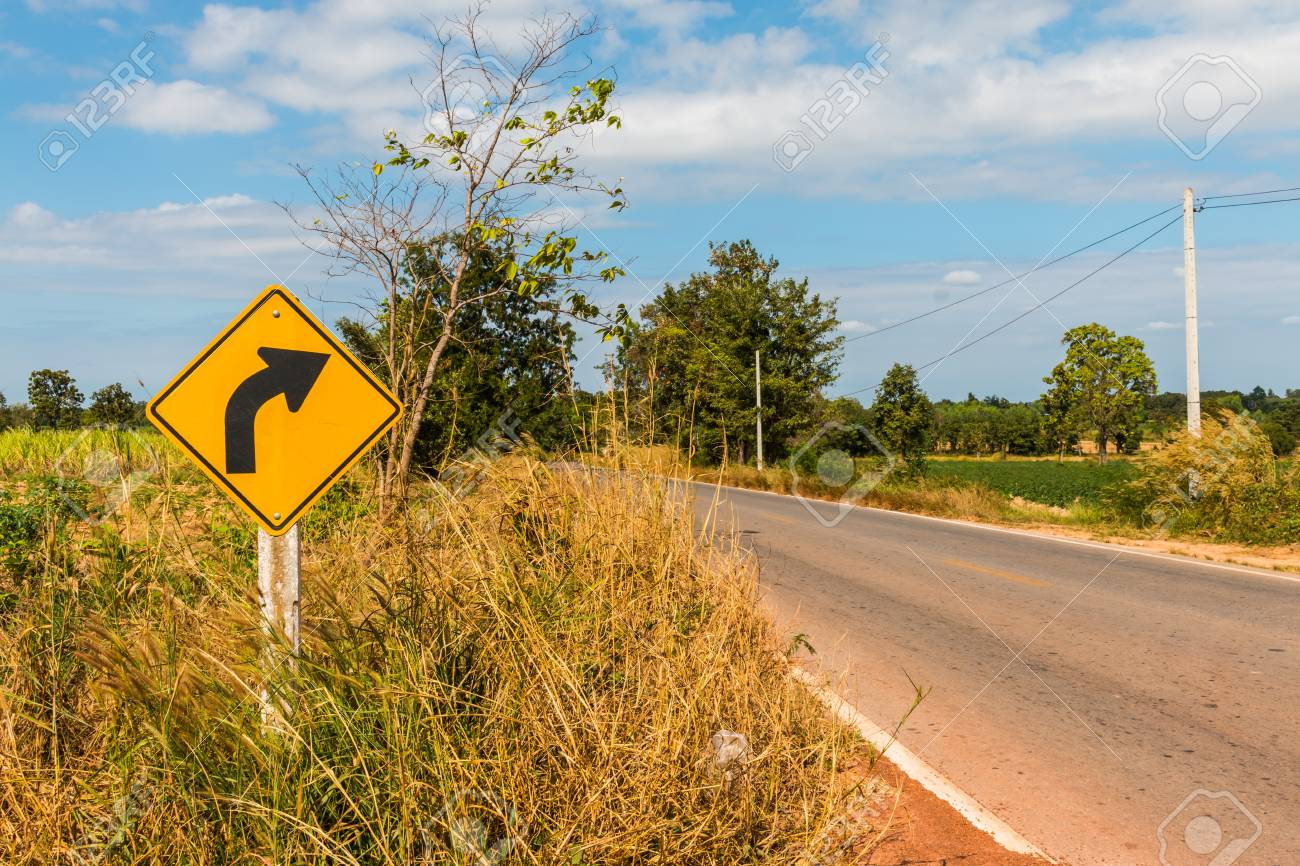right: (136, 283, 411, 546)
